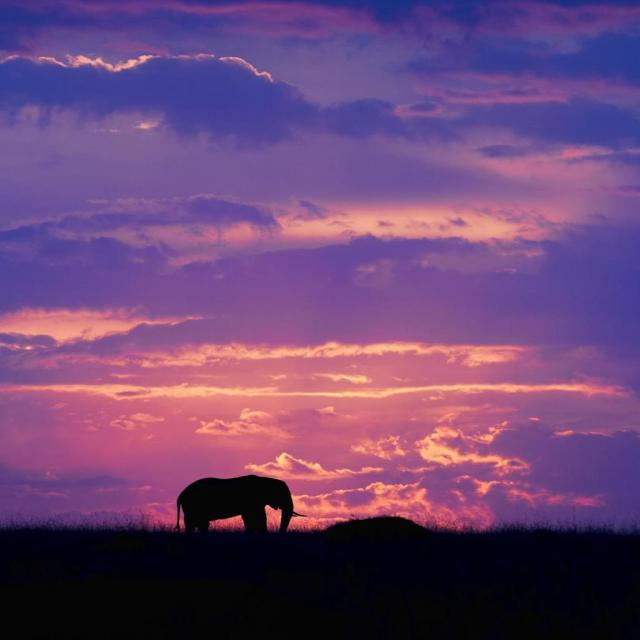Elephant: (174, 476, 306, 540)
